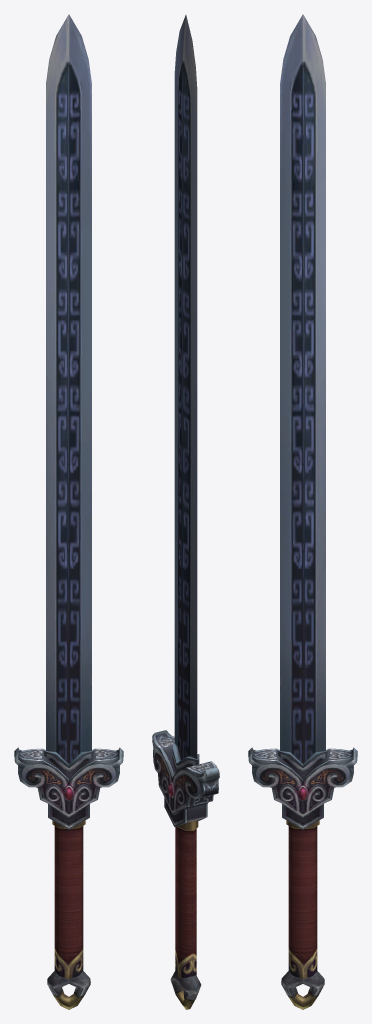
The model's file is SM_Sword_003.fbx.
3 renders of one model, left to right at view 1: azimuth 90°, elevation 25°; view 2: azimuth 210°, elevation 25°; view 3: azimuth 270°, elevation 25°, orthographic.
Visible parts, largest first — view 1: Sword_pasted__ty_sword_003a_lod0; view 2: Sword_pasted__ty_sword_003a_lod0; view 3: Sword_pasted__ty_sword_003a_lod0.
Part boxes in pixels (bbox=[...]): Sword_pasted__ty_sword_003a_lod0: bbox=[14, 14, 123, 1009]; Sword_pasted__ty_sword_003a_lod0: bbox=[152, 15, 219, 1009]; Sword_pasted__ty_sword_003a_lod0: bbox=[248, 14, 357, 1009].
Bounding box in the file's own units: 4.95 × 13.81 × 139.
1 material, 1 textured.
